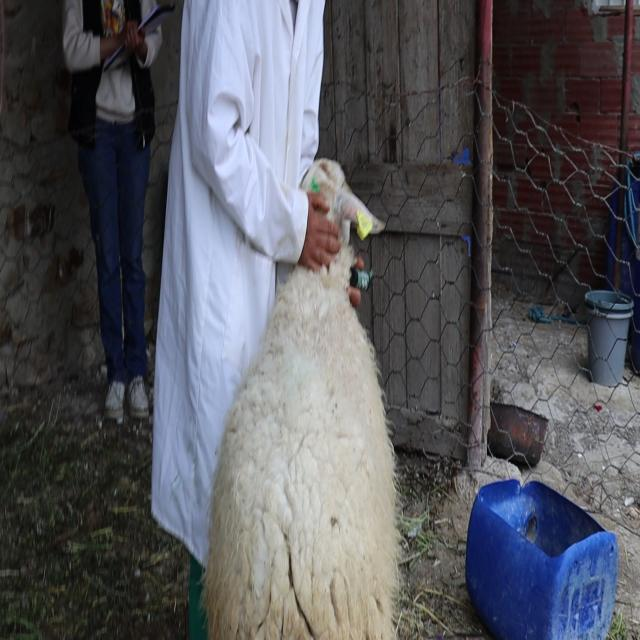Score_3: (204, 158, 399, 639)
